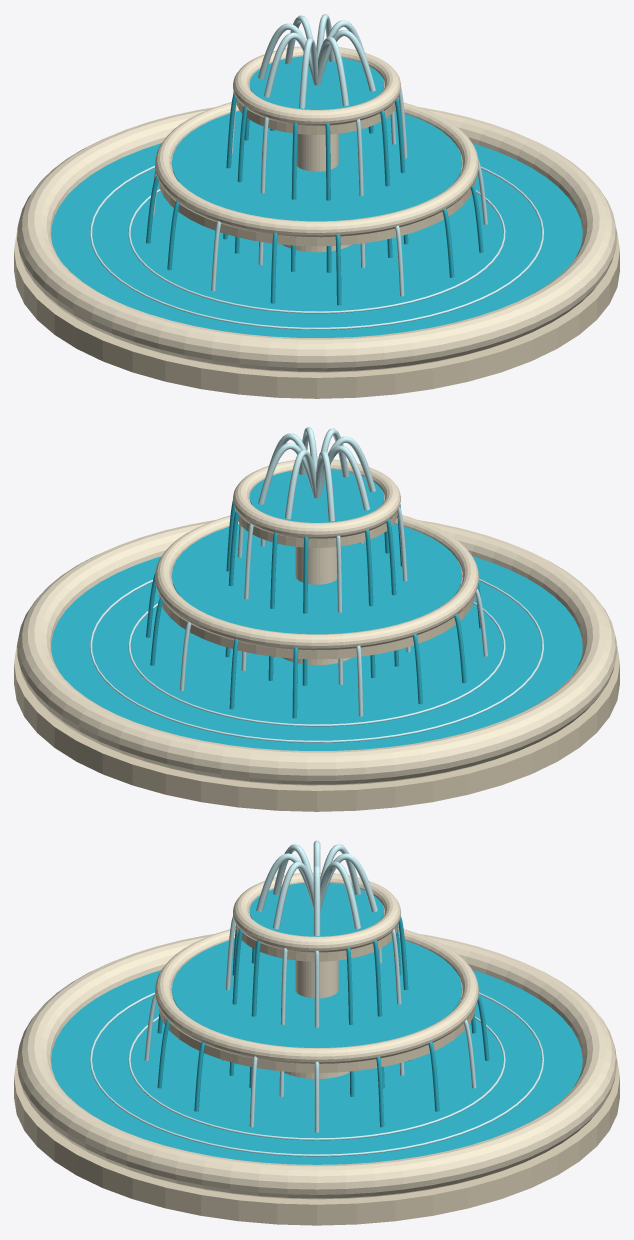
File: fountain.glb
3 renders of one model, top to bottom at view 1: azimuth 30°, elevation 25°; view 2: azimuth 150°, elevation 25°; view 3: azimuth 270°, elevation 25°, orthographic.
Visible parts, largest first — view 1: fountain_water_basin, fountain_basin_wall, fountain_water_pool, fountain_foundation, fountain_bowl_lip, fountain_bowl_lip.001, fountain_water_pool.001, fountain_bowl, fountain_water_ripple.001, fountain_water_ripple, fountain_pedestal.001, fountain_bowl.001 (+8 smaller); view 2: fountain_water_basin, fountain_basin_wall, fountain_water_pool, fountain_foundation, fountain_bowl_lip, fountain_bowl_lip.001, fountain_water_pool.001, fountain_bowl, fountain_water_ripple.001, fountain_water_ripple, fountain_pedestal.001, fountain_bowl.001 (+8 smaller); view 3: fountain_water_basin, fountain_basin_wall, fountain_water_pool, fountain_foundation, fountain_bowl_lip, fountain_water_pool.001, fountain_bowl_lip.001, fountain_bowl, fountain_water_ripple.001, fountain_water_ripple, fountain_pedestal.001, fountain_bowl.001 (+7 smaller).
Part boxes in pixels (left/top/right/bottom): fountain_water_basin: left=51, top=143, right=582, bottom=337; fountain_basin_wall: left=17, top=107, right=616, bottom=372; fountain_water_pool: left=171, top=110, right=462, bottom=221; fountain_foundation: left=14, top=232, right=619, bottom=398; fountain_bowl_lip: left=155, top=102, right=478, bottom=237; fountain_bowl_lip.001: left=233, top=45, right=400, bottom=125; fountain_water_pool.001: left=249, top=56, right=384, bottom=109; fountain_bowl: left=158, top=148, right=475, bottom=246; fountain_water_ripple.001: left=90, top=165, right=543, bottom=329; fountain_water_ripple: left=128, top=189, right=505, bottom=313; fountain_pedestal.001: left=296, top=133, right=338, bottom=171; fountain_bowl.001: left=236, top=80, right=395, bottom=134; fountain_water_basin: left=51, top=556, right=582, bottom=750; fountain_basin_wall: left=17, top=520, right=616, bottom=785; fountain_water_pool: left=171, top=523, right=462, bottom=634; fountain_foundation: left=14, top=645, right=619, bottom=811; fountain_bowl_lip: left=155, top=515, right=478, bottom=650; fountain_bowl_lip.001: left=233, top=458, right=400, bottom=538; fountain_water_pool.001: left=249, top=469, right=384, bottom=522; fountain_bowl: left=158, top=561, right=475, bottom=659; fountain_water_ripple.001: left=90, top=578, right=543, bottom=742; fountain_water_ripple: left=128, top=602, right=505, bottom=726; fountain_pedestal.001: left=295, top=546, right=337, bottom=584; fountain_bowl.001: left=238, top=493, right=397, bottom=547; fountain_water_basin: left=51, top=970, right=582, bottom=1164; fountain_basin_wall: left=17, top=934, right=616, bottom=1199; fountain_water_pool: left=171, top=939, right=462, bottom=1047; fountain_foundation: left=14, top=1059, right=619, bottom=1225; fountain_bowl_lip: left=155, top=928, right=478, bottom=1063; fountain_water_pool.001: left=249, top=883, right=384, bottom=936; fountain_bowl_lip.001: left=233, top=872, right=400, bottom=952; fountain_bowl: left=158, top=975, right=475, bottom=1072; fountain_water_ripple.001: left=90, top=992, right=543, bottom=1156; fountain_water_ripple: left=128, top=1016, right=505, bottom=1140; fountain_pedestal.001: left=295, top=960, right=338, bottom=998; fountain_bowl.001: left=236, top=905, right=397, bottom=961.
Size of the model in its own units: 6.3 by 2.8 by 6.3.
